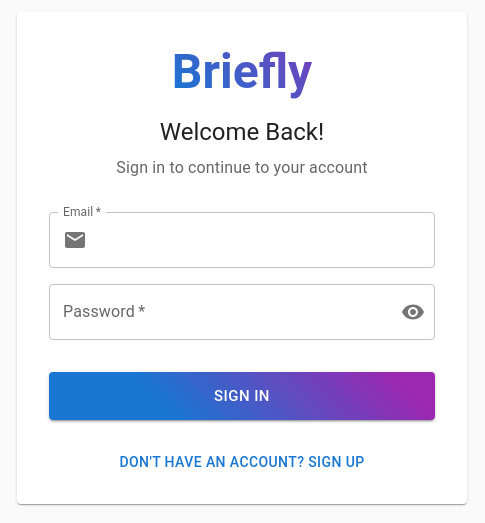
Test case: AuthForms Component › shows loading spinner while submitting form
Type "test@example.com" into the field labelled "Email *".
click(265, 240); type("test@example.com")  # box [95,212,435,268]
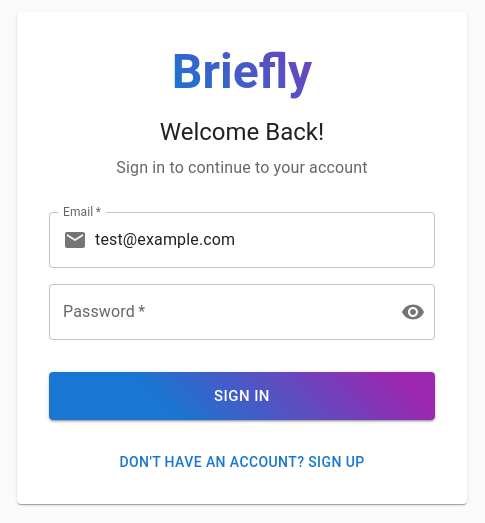
Type "Password123!" into the password field labelled "Password *".
click(217, 312); type("Password123!")  # box [49,284,385,340]
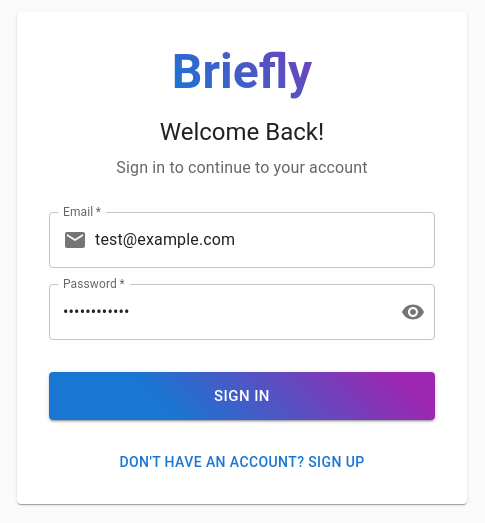
Click the button "Sign In".
click(242, 396)  # box [49,372,435,420]
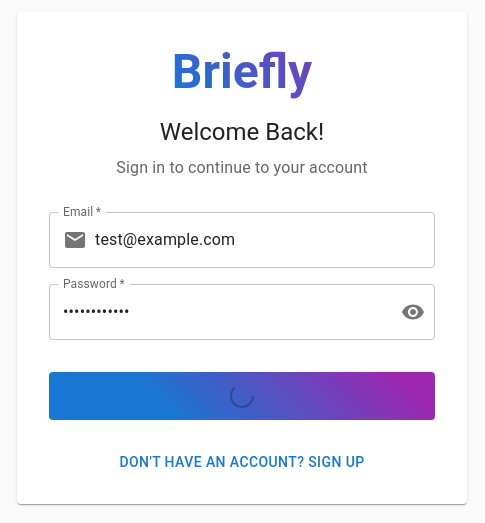
Check: the progress indicator is shown, box [230,384,254,408]
